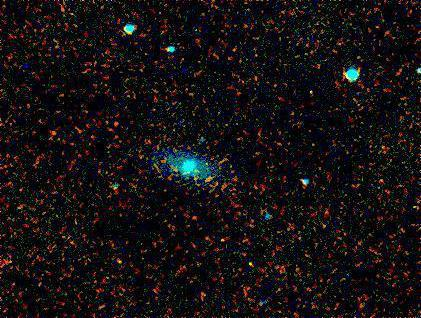star: (195, 165, 225, 195)
